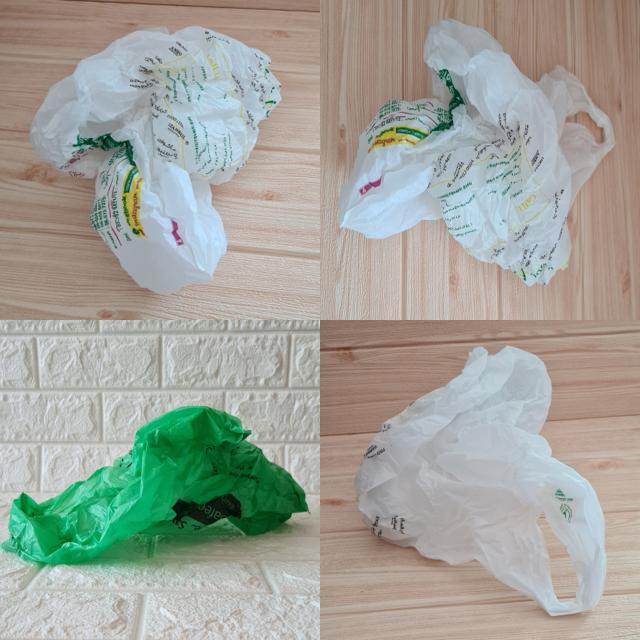Single-layer Plastic: (339, 20, 615, 285), (355, 346, 606, 615), (30, 26, 280, 295), (2, 406, 308, 564)
